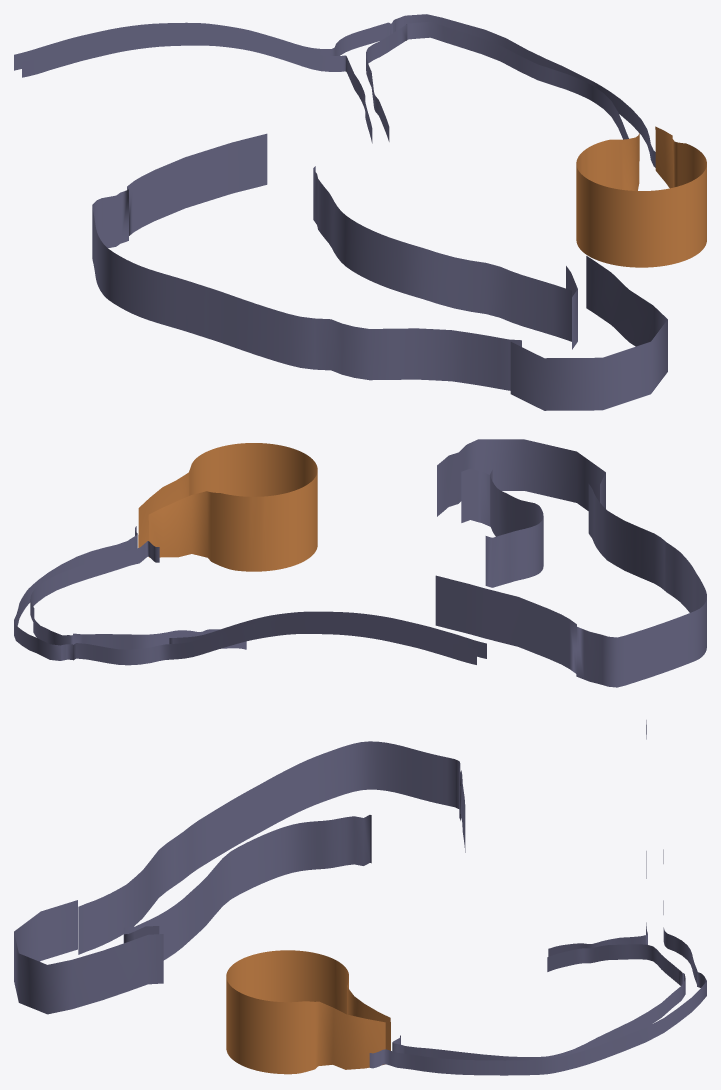
Rendered from CollisionWallsMine.fbx.
3 renders of one model, top to bottom at view 1: azimuth 30°, elevation 25°; view 2: azimuth 150°, elevation 25°; view 3: azimuth 270°, elevation 25°, orthographic. The views are drawn at different scales.
Parts seen in each view (by area): view 1: CollWall.004, CollwallSpiralTall, CollWall.001, CollWall.002, CollWall.003, CollWall.007, CollWall.006; view 2: CollWall.004, CollwallSpiralTall, CollWall.003, CollWall.002, CollWall.001, CollWall.006, CollWall.007, CollWall.005; view 3: CollWall.004, CollwallSpiralTall, CollWall.001, CollWall.002, CollWall.003, CollWall.006, CollWall.007.
Boxes of the visible parts, bbox=[...] form: CollWall.004: bbox=[92, 133, 521, 390]; CollwallSpiralTall: bbox=[576, 126, 706, 267]; CollWall.001: bbox=[313, 166, 571, 341]; CollWall.002: bbox=[510, 256, 667, 410]; CollWall.003: bbox=[14, 14, 655, 167]; CollWall.007: bbox=[22, 29, 372, 143]; CollWall.006: bbox=[366, 21, 628, 141]; CollWall.004: bbox=[435, 484, 706, 687]; CollwallSpiralTall: bbox=[138, 443, 317, 571]; CollWall.003: bbox=[14, 526, 476, 665]; CollWall.002: bbox=[437, 439, 605, 516]; CollWall.001: bbox=[485, 470, 543, 587]; CollWall.006: bbox=[30, 541, 219, 649]; CollWall.007: bbox=[169, 611, 486, 658]; CollWall.005: bbox=[461, 468, 490, 526]; CollWall.004: bbox=[78, 741, 465, 954]; CollwallSpiralTall: bbox=[226, 950, 390, 1074]; CollWall.001: bbox=[123, 815, 371, 960]; CollWall.002: bbox=[14, 900, 163, 1014]; CollWall.003: bbox=[369, 849, 706, 1075]; CollWall.006: bbox=[392, 944, 685, 1060]; CollWall.007: bbox=[548, 720, 647, 956].
Bounding box in the file's own units: 32571 × 8710 × 35249.
